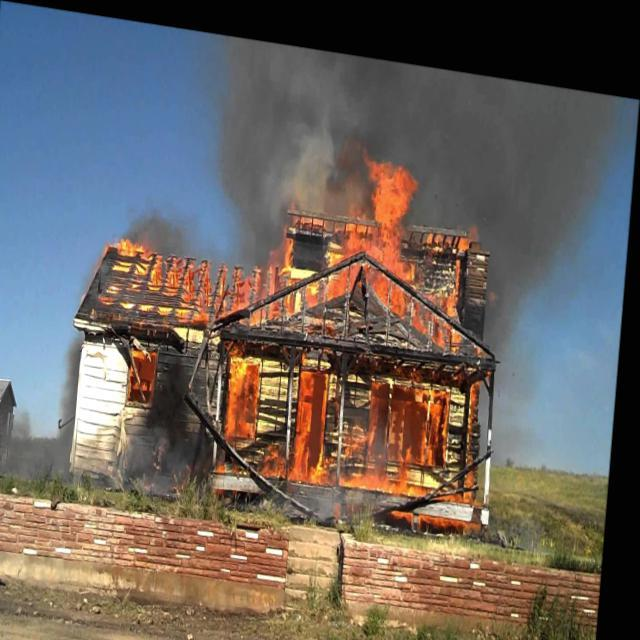Fire: (86, 101, 516, 516)
